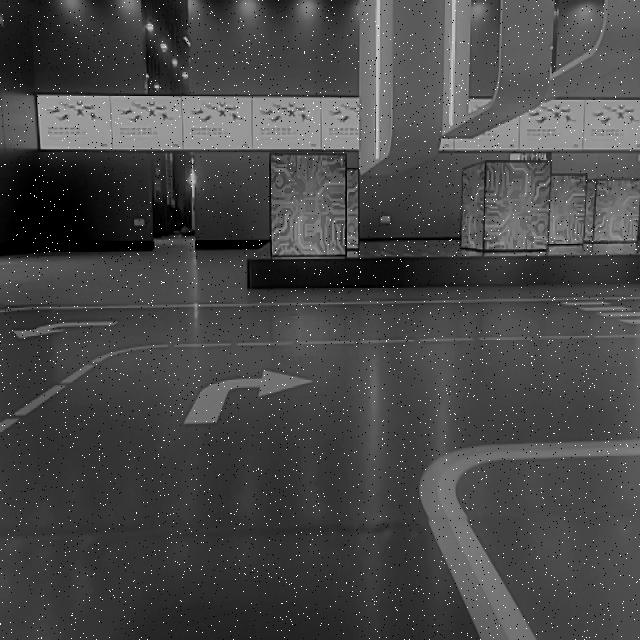left_lane: (0, 355, 94, 436)
right_lane: (421, 497, 510, 640)
